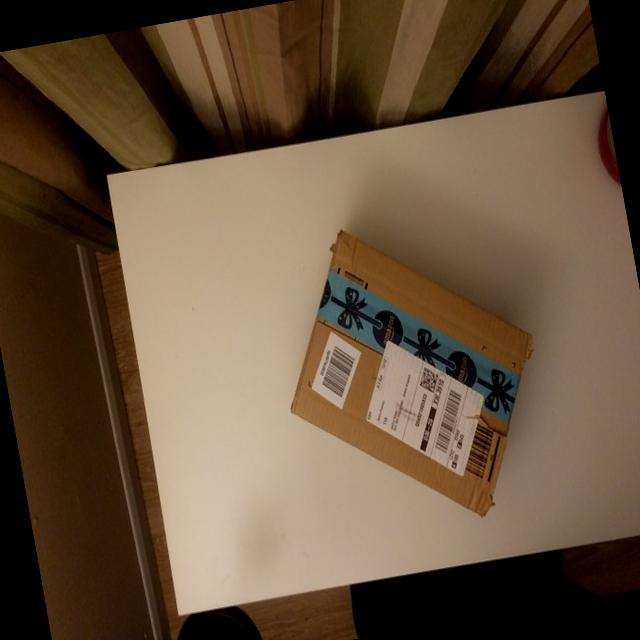Recycle: (259, 198, 561, 550)
